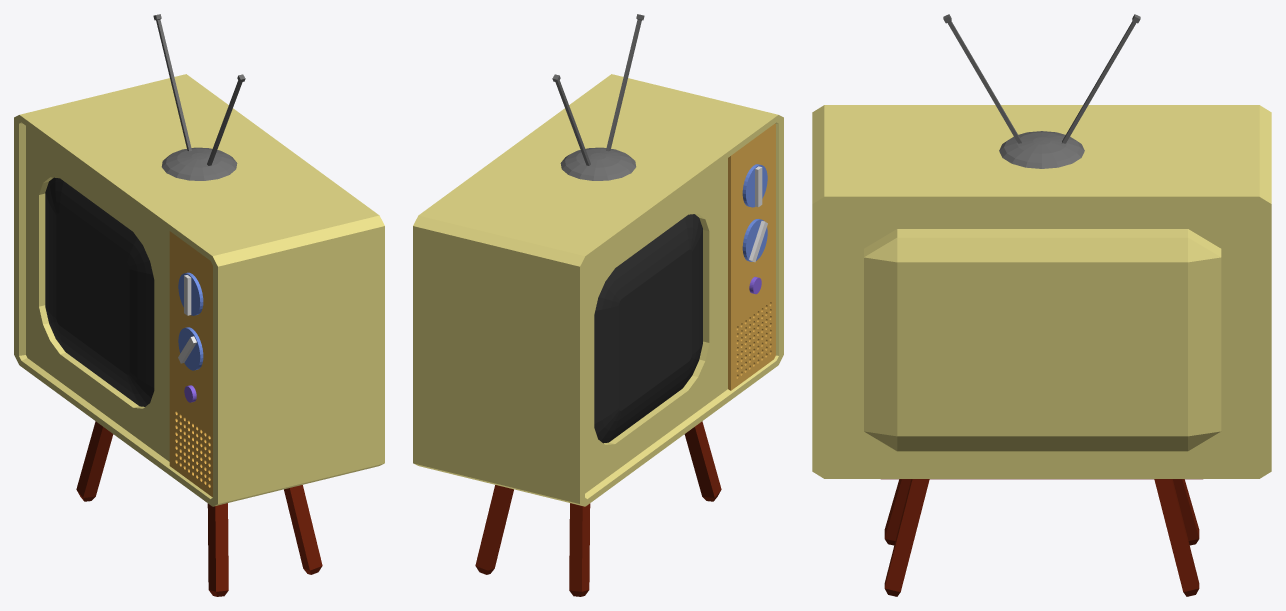
File: asset.glb
3 views of the same model, side by side, from view 1: azimuth 30°, elevation 25°; view 2: azimuth 150°, elevation 25°; view 3: azimuth 270°, elevation 25° (orthographic). The views are drawn at different scales.
Parts seen in each view (by area): view 1: Cube, Cube.001, Cube.002, Cube.004, Sphere, Cube.005, Circle.001, Circle; view 2: Cube, Cube.001, Cube.002, Cube.004, Sphere, Cube.005, Circle, Circle.001; view 3: Cube, Cube.006, Cube.004, Sphere, Cube.005.
Part boxes in pixels (left/top/right/bottom): Cube: left=14, top=74, right=384, bottom=506; Cube.001: left=45, top=177, right=154, bottom=406; Cube.002: left=169, top=231, right=212, bottom=497; Cube.004: left=76, top=421, right=322, bottom=596; Sphere: left=161, top=147, right=237, bottom=180; Cube.005: left=153, top=14, right=245, bottom=165; Circle.001: left=178, top=327, right=203, bottom=370; Circle: left=178, top=272, right=203, bottom=315; Cube: left=413, top=74, right=783, bottom=506; Cube.001: left=594, top=214, right=702, bottom=443; Cube.002: left=728, top=123, right=775, bottom=390; Cube.004: left=475, top=421, right=721, bottom=596; Sphere: left=560, top=147, right=636, bottom=180; Cube.005: left=552, top=14, right=644, bottom=165; Circle: left=742, top=164, right=767, bottom=207; Circle.001: left=742, top=219, right=767, bottom=261; Cube: left=812, top=105, right=1271, bottom=478; Cube.006: left=864, top=229, right=1221, bottom=451; Cube.004: left=884, top=479, right=1199, bottom=596; Sphere: left=999, top=131, right=1084, bottom=168; Cube.005: left=943, top=14, right=1140, bottom=143.
Bounding box in the file's own units: 2.59 × 6.22 × 4.67.
